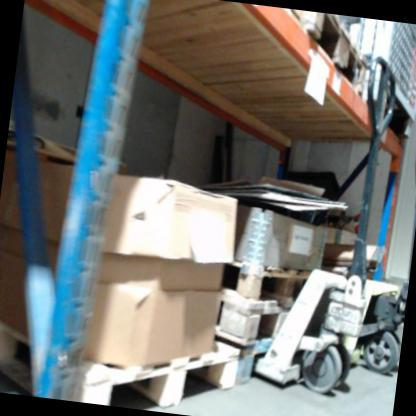pallet: (0, 307, 244, 416), (253, 8, 374, 101), (221, 262, 309, 306), (217, 299, 288, 350), (239, 345, 264, 387)
pallet_truck: (210, 28, 404, 404), (342, 109, 416, 380)
stillage: (335, 18, 416, 142)
